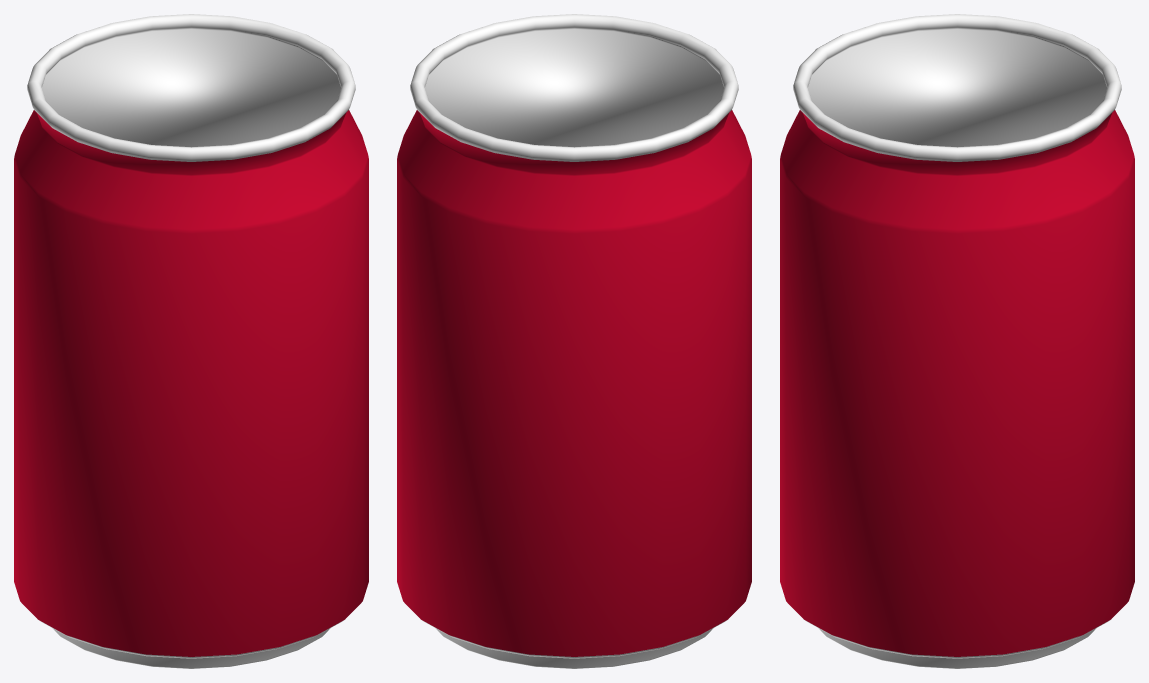
Rendered from lata.fbx.
3 renders of one model, left to right at view 1: azimuth 30°, elevation 25°; view 2: azimuth 150°, elevation 25°; view 3: azimuth 270°, elevation 25°, orthographic.
Parts seen in each view (by area): view 1: Cylinder; view 2: Cylinder; view 3: Cylinder.
Part boxes in pixels (left/top/right/bottom): Cylinder: left=14, top=14, right=368, bottom=668; Cylinder: left=397, top=14, right=751, bottom=668; Cylinder: left=780, top=14, right=1134, bottom=668.
Size of the model in its own units: 193 by 314 by 193.
